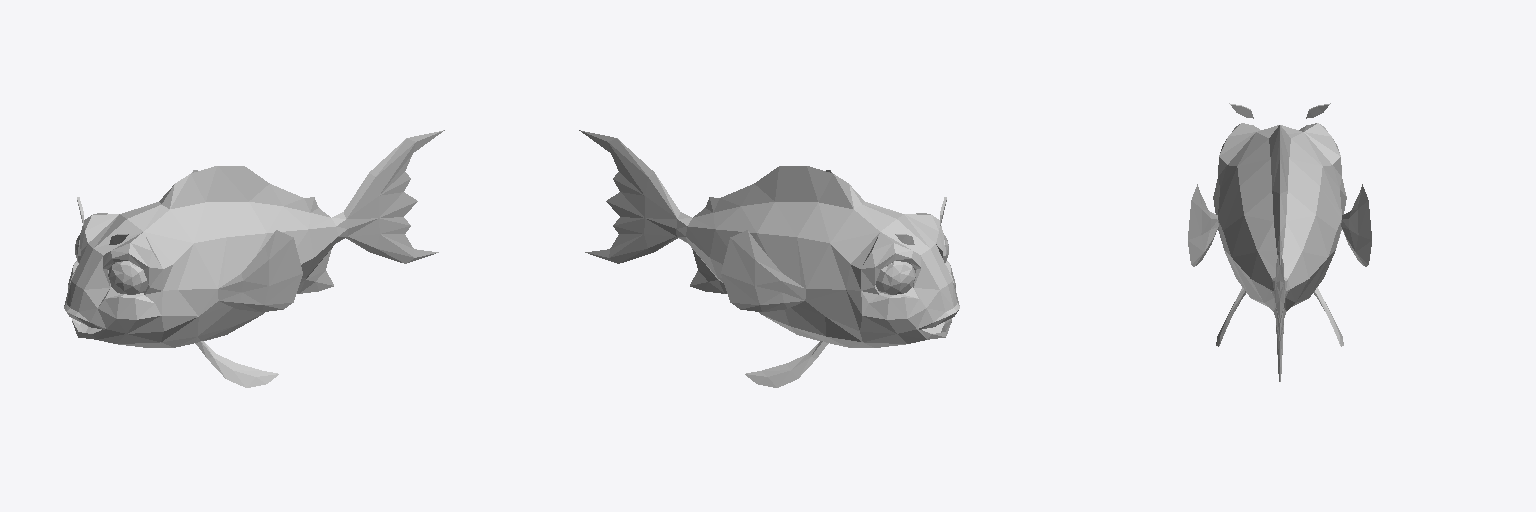
File: f_bzy.obj1.obj
3 renders of one model, left to right at view 1: azimuth 30°, elevation 25°; view 2: azimuth 150°, elevation 25°; view 3: azimuth 270°, elevation 25°, orthographic.
Visible parts, largest first — view 1: F_xmy; view 2: F_xmy; view 3: F_xmy.
Boxes of the visible parts, <box> form: F_xmy: <box>64,130,444,387</box>; F_xmy: <box>579,130,959,387</box>; F_xmy: <box>1188,103,1371,381</box>.
Size of the model in its own units: 0.0193 by 0.0097 by 0.0082.